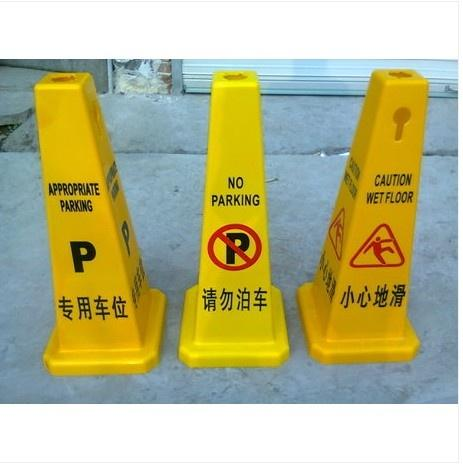cone_barrel: (17, 77, 172, 380), (292, 71, 434, 361), (170, 75, 295, 371)
